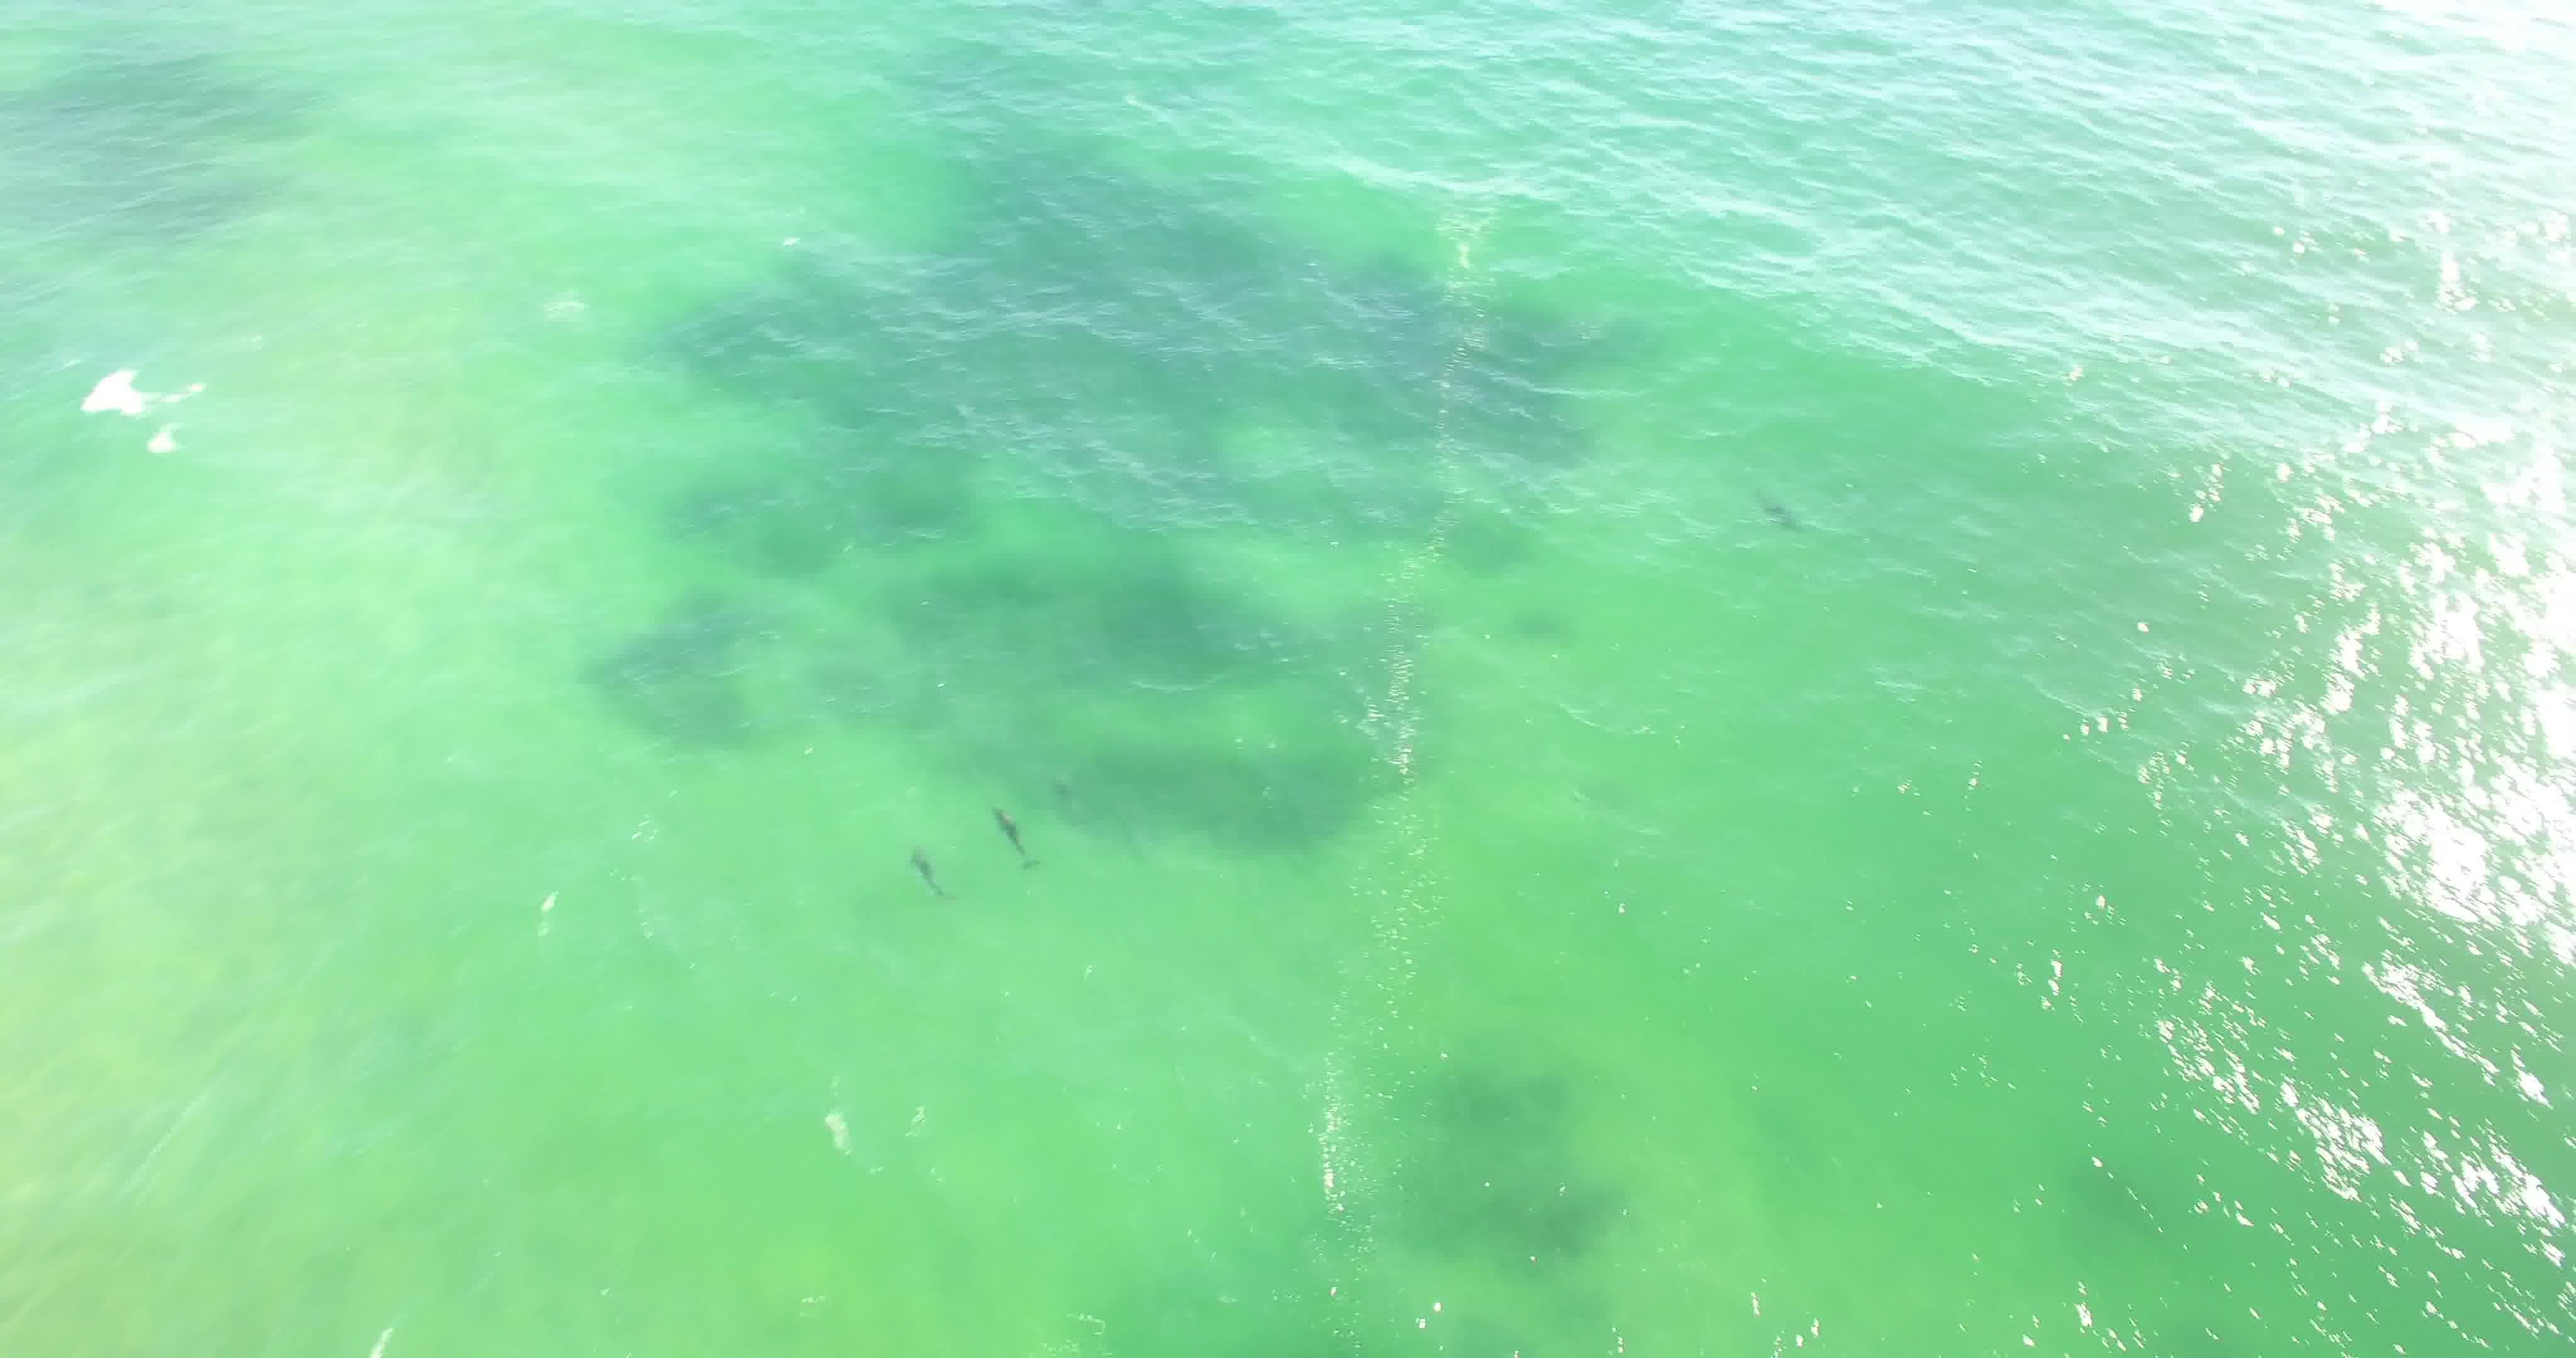dolphin: (961, 780, 1048, 879), (891, 826, 959, 910), (1038, 757, 1092, 820)
